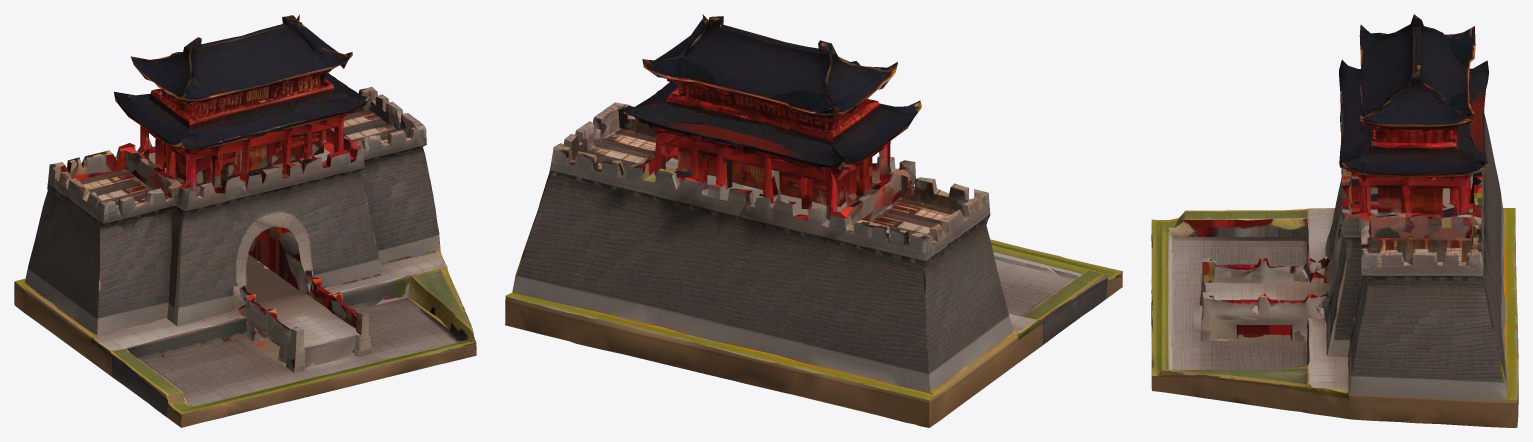
The model's file is xian-city-wall.glb.
3 renders of one model, left to right at view 1: azimuth 30°, elevation 25°; view 2: azimuth 150°, elevation 25°; view 3: azimuth 270°, elevation 25°, orthographic. The views are drawn at different scales.
Visible parts, largest first — view 1: logan-textured.obj; view 2: logan-textured.obj; view 3: logan-textured.obj.
Part boxes in pixels (box(x1,y1,x2,y2)): logan-textured.obj: box(14, 14, 476, 427); logan-textured.obj: box(505, 14, 1122, 427); logan-textured.obj: box(1151, 14, 1518, 427).
Bounding box in the file's own units: 1 × 0.6971 × 0.7986.
1 material, 1 textured.
